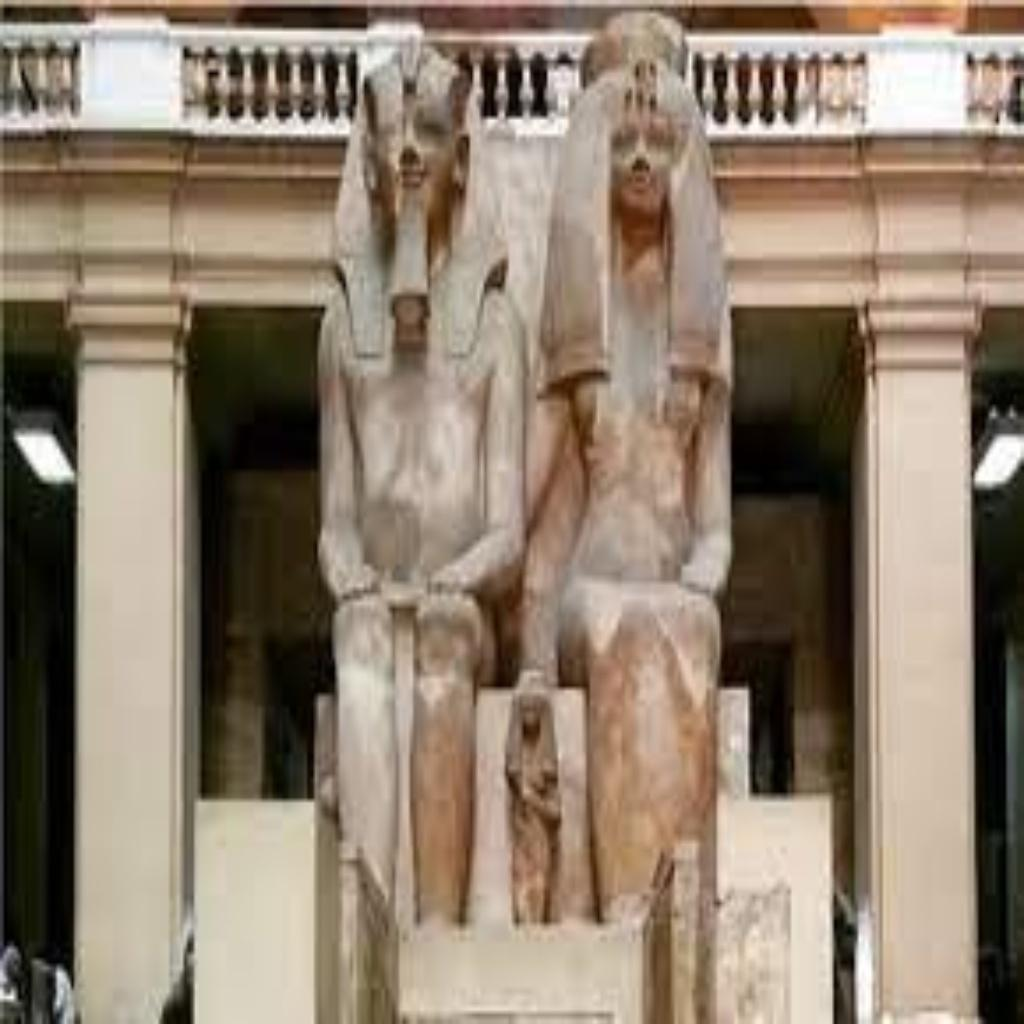Amenhotep III and Tiye: (322, 10, 732, 942)
